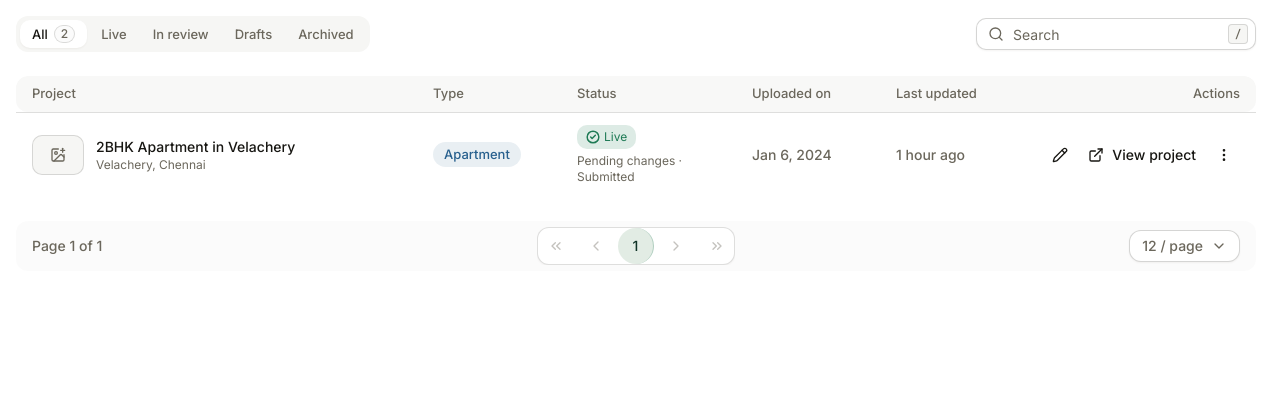
Scenario: DesignerProjectsList › explains a submitted revision while keeping the public version distinct
Step 1. Click the button with aria-label "Submitted details" → x=648, y=168, box [577, 152, 720, 184]
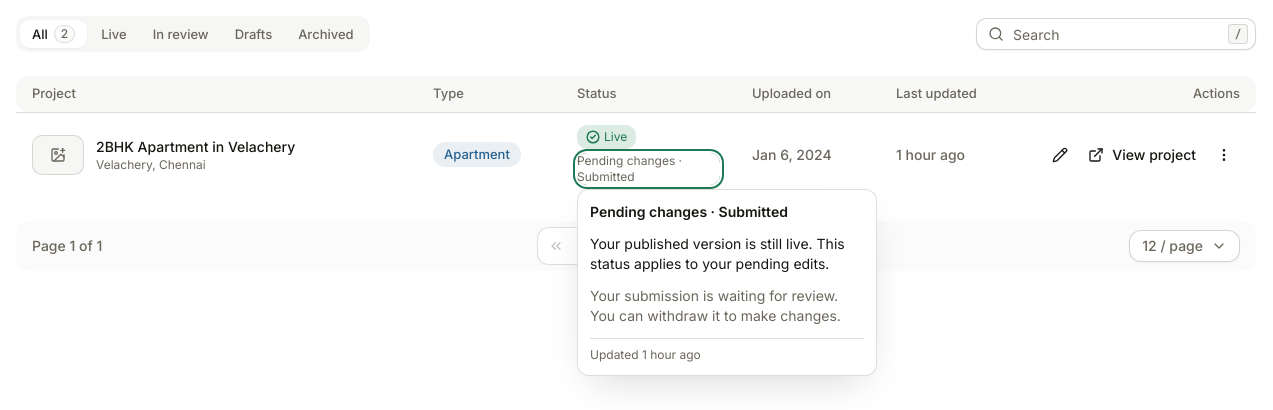
expect the tooltip shows "Your published version is still live.": met, box [590, 235, 813, 252]
expect the tooltip shows "waiting for review": met, box [590, 287, 841, 324]
